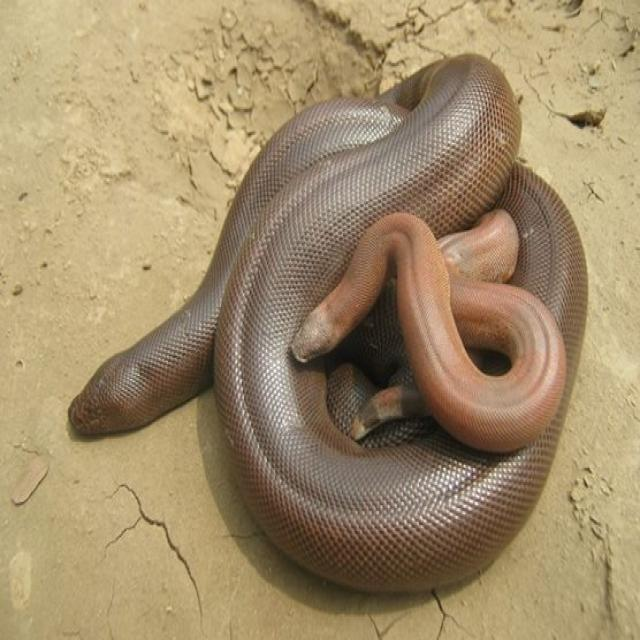Snake: (67, 49, 588, 594)
